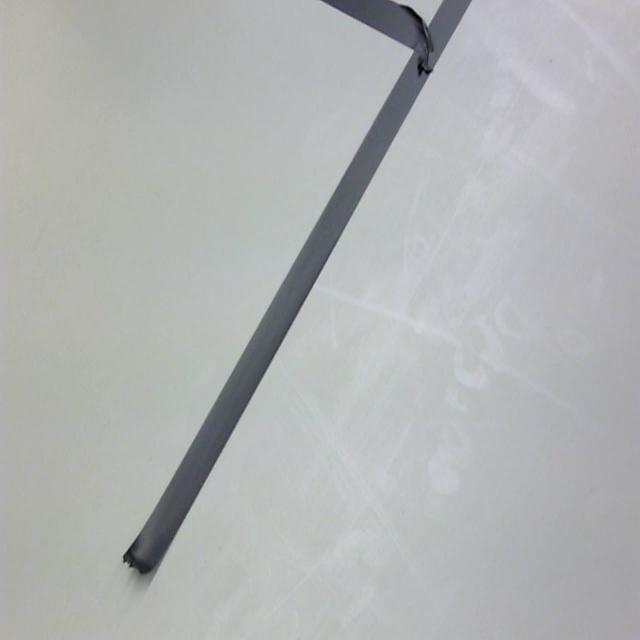tape: (104, 0, 488, 614)
